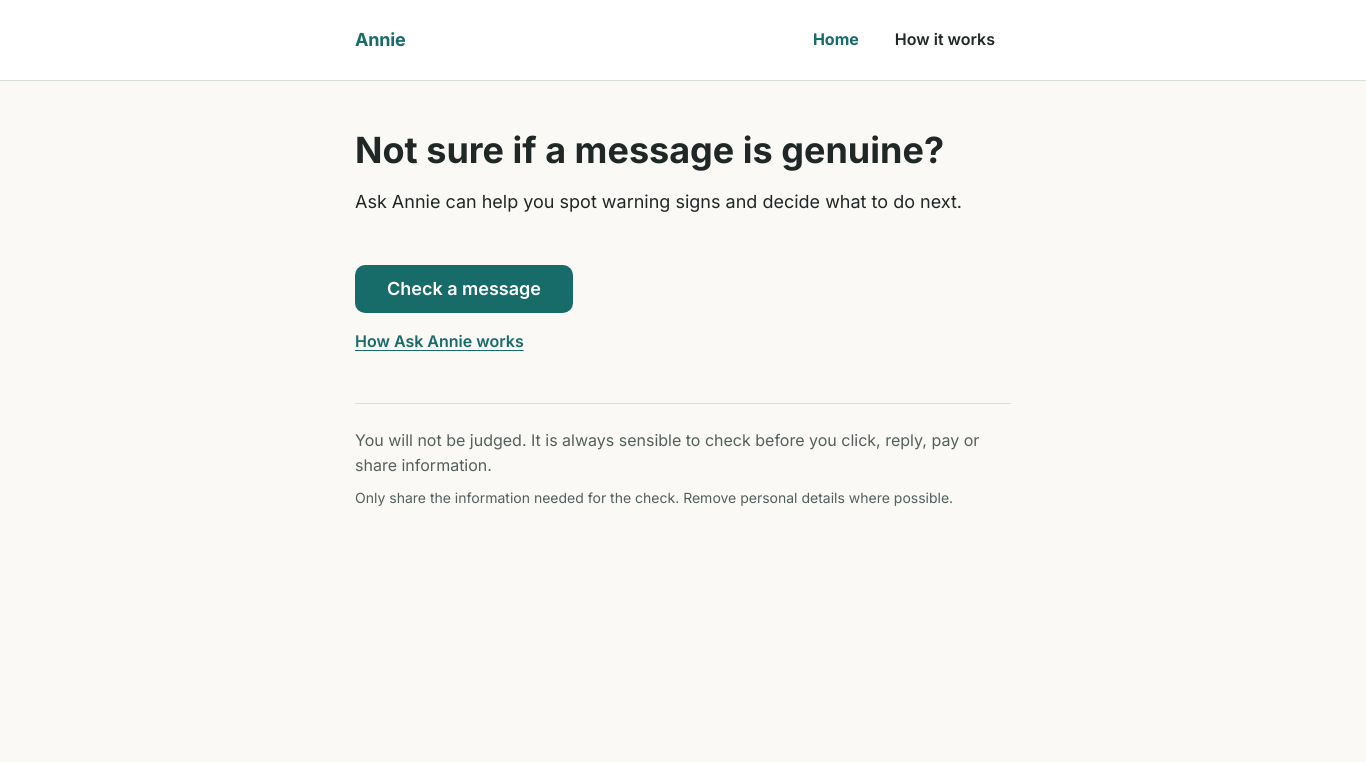
Integration — text submission through Results › shows the correct risk summary on the Results screen
Click the button "Check a message". click: (464, 289)
box: [355,265,573,313]
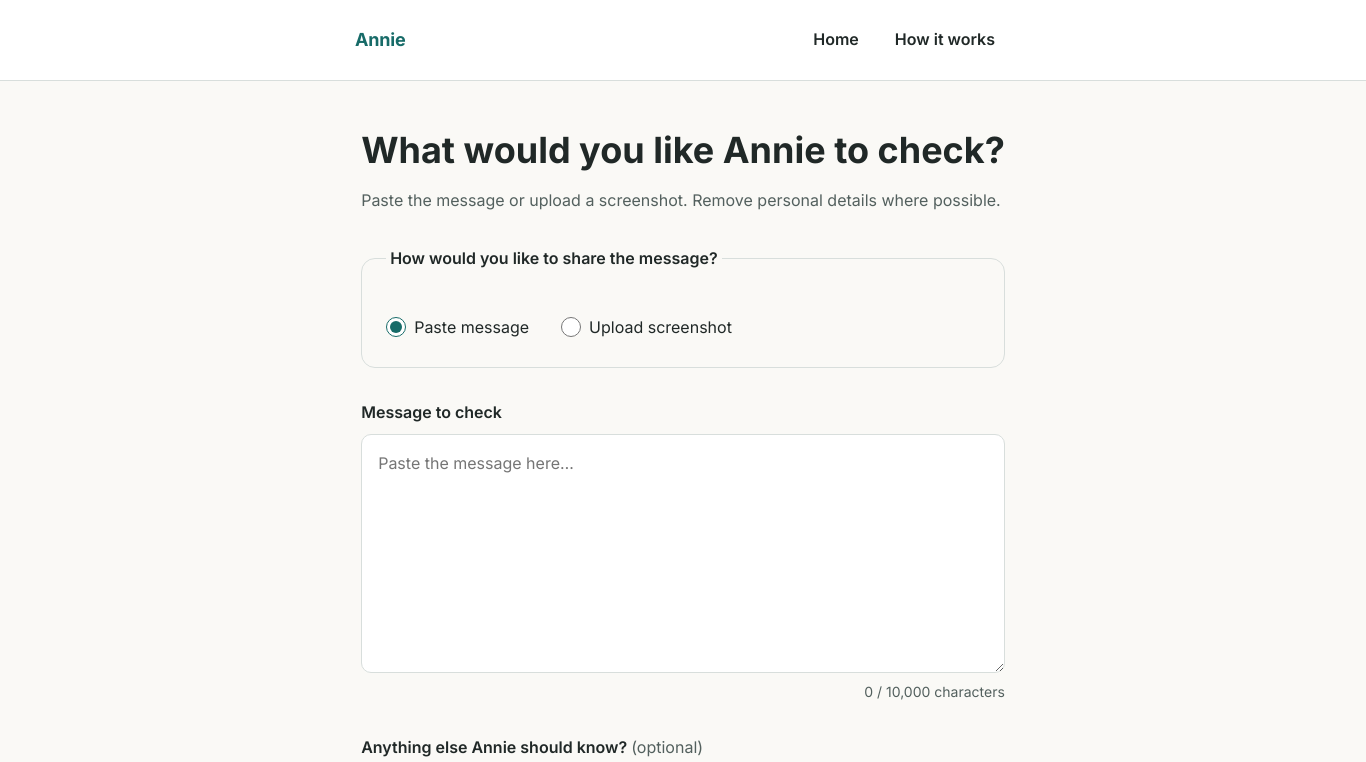
Type "Is this genuine?" into the text box labelled "Message to check". click: (683, 553)
box: [361,434,1005,673]
(page scrolled)
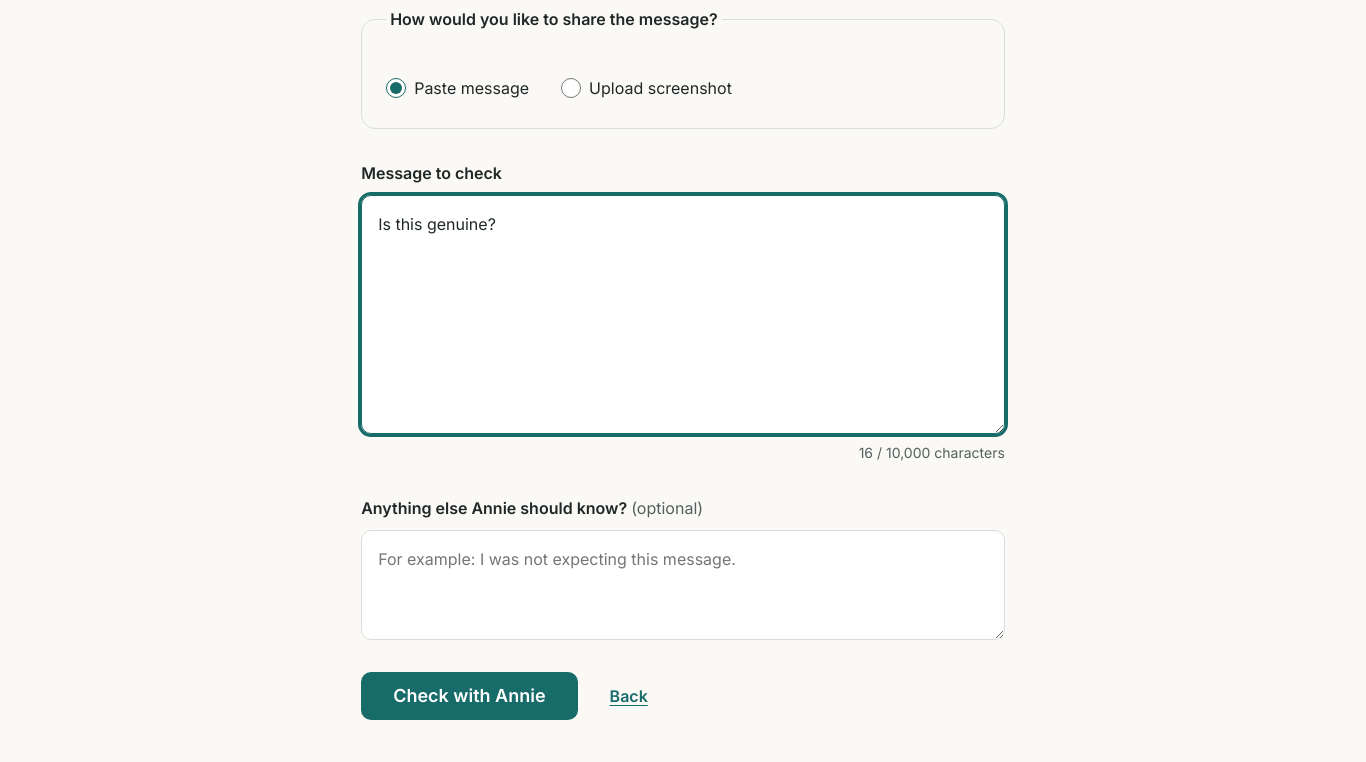
Click the button "Check with Annie". click: (469, 696)
box: [361,672,578,720]
(page scrolled)
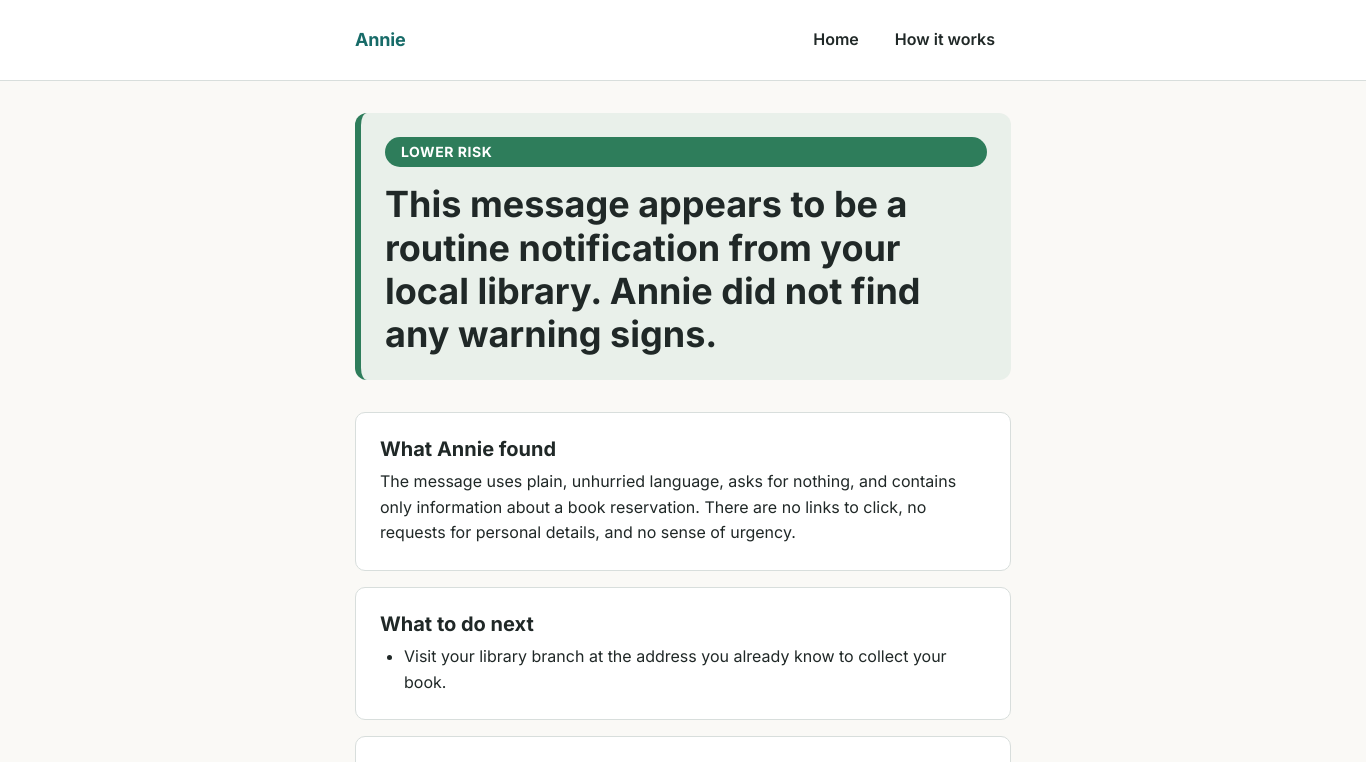
expect the heading named "This message appears to be a routine notification from your local library. Annie did not find any warning signs." is shown: met, box [385,183,987,356]
